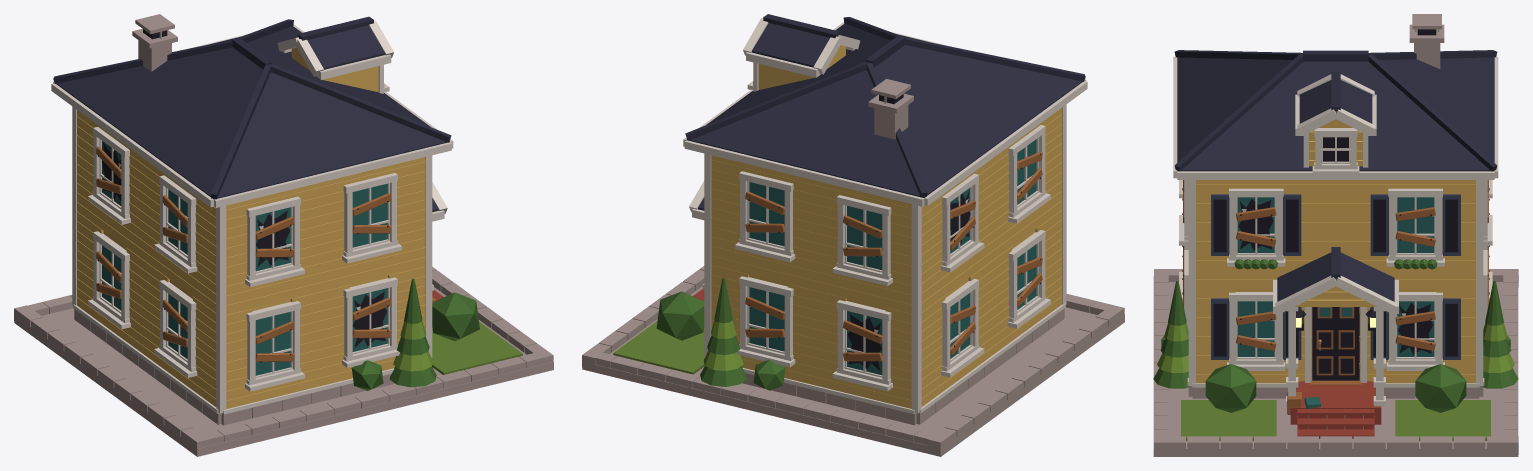
3 views of the same model, side by side, from view 1: azimuth 30°, elevation 25°; view 2: azimuth 150°, elevation 25°; view 3: azimuth 270°, elevation 25° (orthographic).
Visible parts, largest first — view 1: root_pal_picketWhite, body_pal_picketWhite.001, roof_pal_picketWhite.001; view 2: root_pal_picketWhite, body_pal_picketWhite.001, roof_pal_picketWhite.001; view 3: root_pal_picketWhite, roof_pal_picketWhite.001, body_pal_picketWhite.001, door_front_pal_picketWhite.
Boxes of the visible parts, x1=… form: root_pal_picketWhite: x1=14, y1=127, x2=553, y2=456; body_pal_picketWhite.001: x1=72, y1=106, x2=443, y2=425; roof_pal_picketWhite.001: x1=51, y1=14, x2=453, y2=221; root_pal_picketWhite: x1=582, y1=125, x2=1124, y2=456; body_pal_picketWhite.001: x1=693, y1=104, x2=1066, y2=425; roof_pal_picketWhite.001: x1=683, y1=14, x2=1087, y2=220; root_pal_picketWhite: x1=1153, y1=180, x2=1518, y2=456; roof_pal_picketWhite.001: x1=1173, y1=14, x2=1498, y2=313; body_pal_picketWhite.001: x1=1187, y1=180, x2=1484, y2=438; door_front_pal_picketWhite: x1=1312, y1=307, x2=1360, y2=380.
Bounding box in the file's own units: 9 × 7.5 × 8.02.
